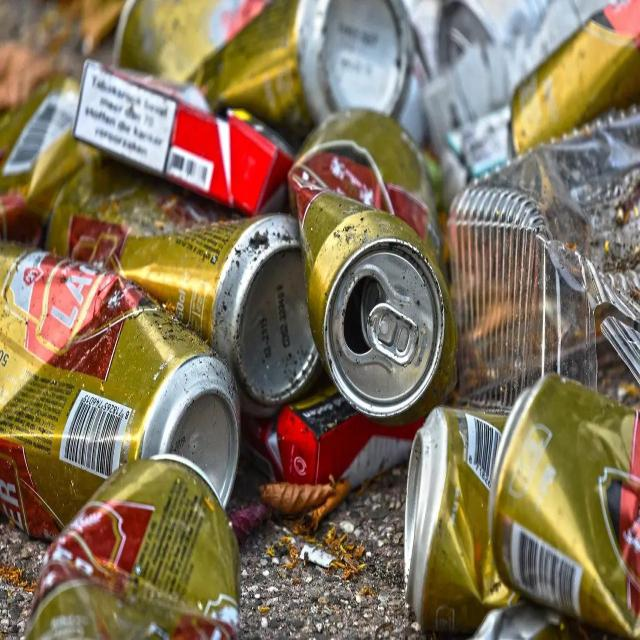can: (0, 240, 246, 545), (44, 167, 330, 416), (285, 106, 459, 424), (487, 372, 640, 640), (26, 454, 244, 640), (182, 0, 416, 152), (402, 406, 527, 640), (508, 0, 640, 158)
pop tab: (365, 302, 419, 366)
